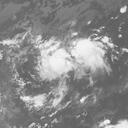cyclone: (39, 40, 106, 91)
